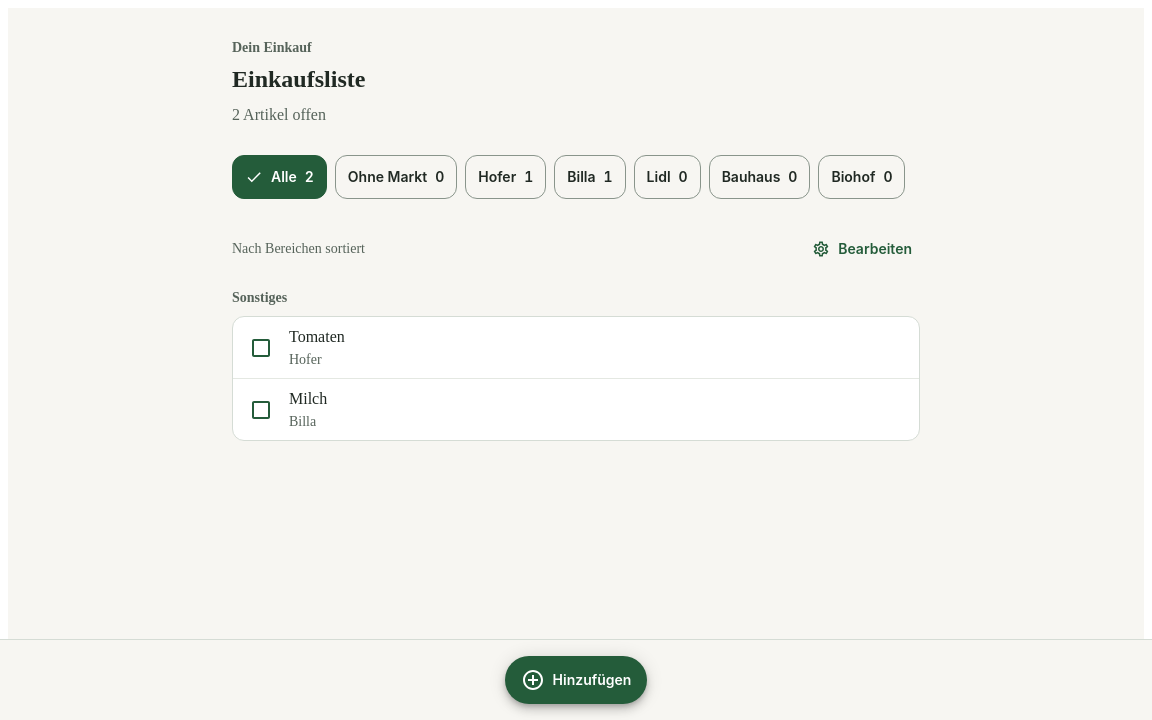
holds optimistic purchase rows and counts until acknowledgment without freezing other records
Click the button with id "market-filter-hofer" at (506,177), box [465,155,546,199]
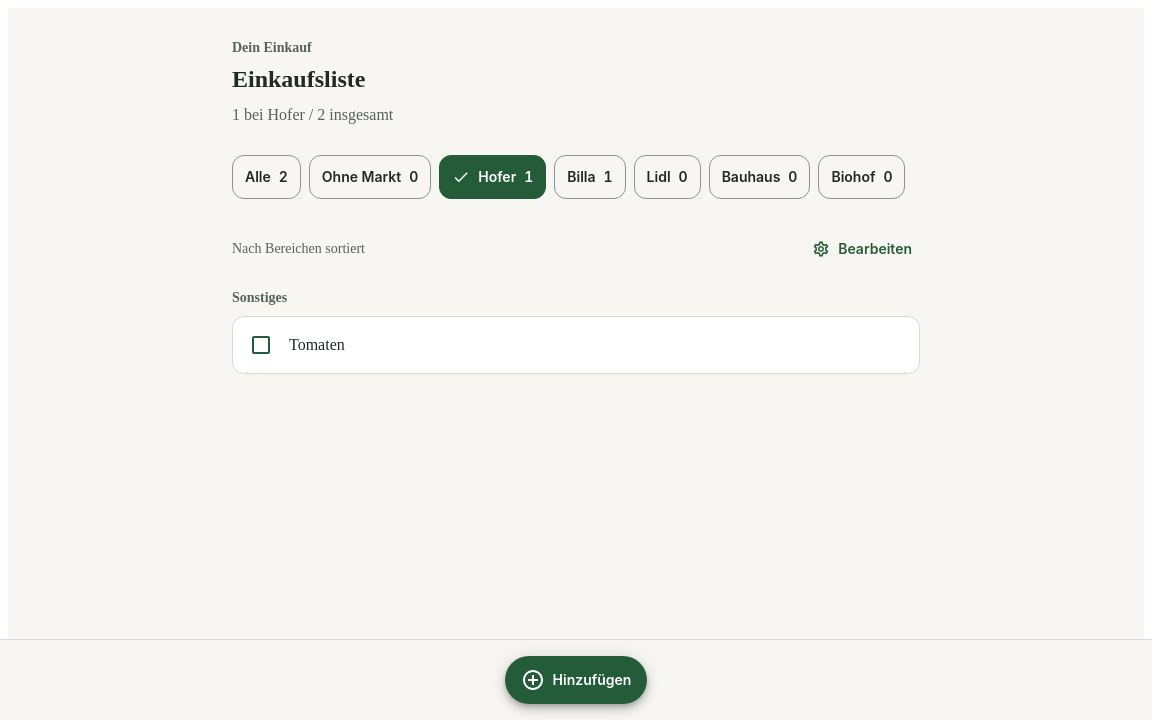
Click the button named "Tomaten als gekauft markieren" at (261,345), box [237,321,285,369]
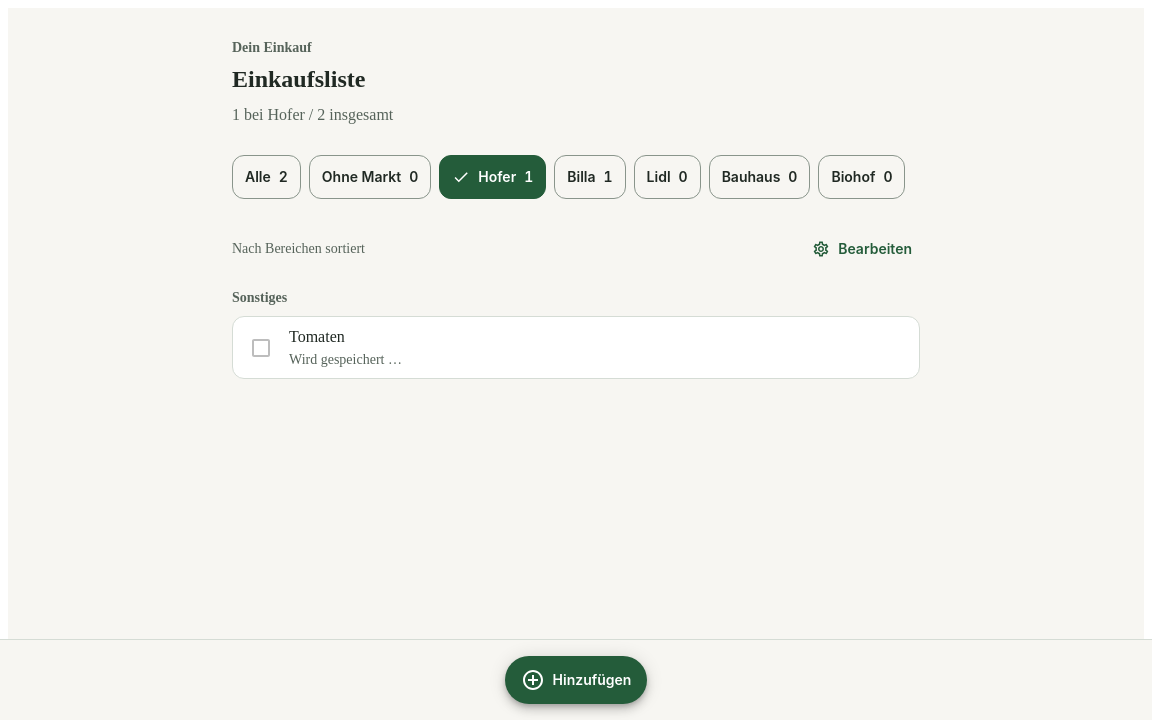
Expected: the text with class "GroceryName" reads "Tomaten", [289,328,345,345]
Click the button "Billa 1" at (590,177), box [554,155,626,199]
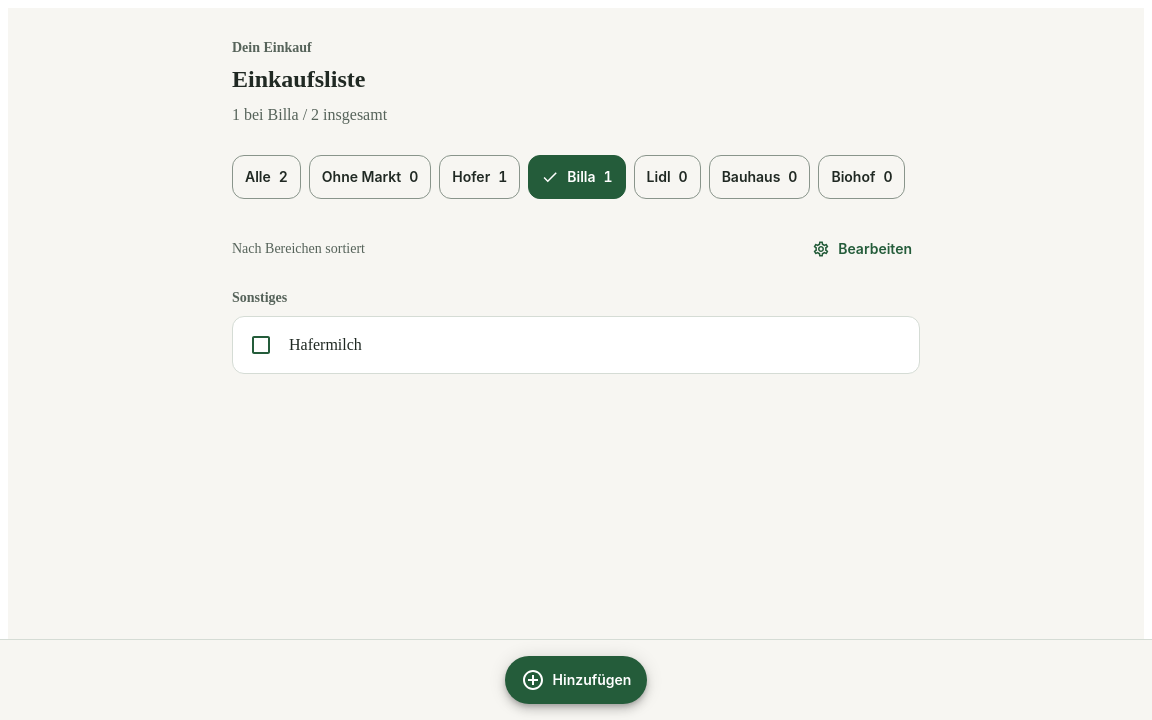
Result: the text with class "GroceryName" reads "Hafermilch" at [289,336,362,353]
Click the button "Hofer 1" at (480,177), box [439,155,520,199]
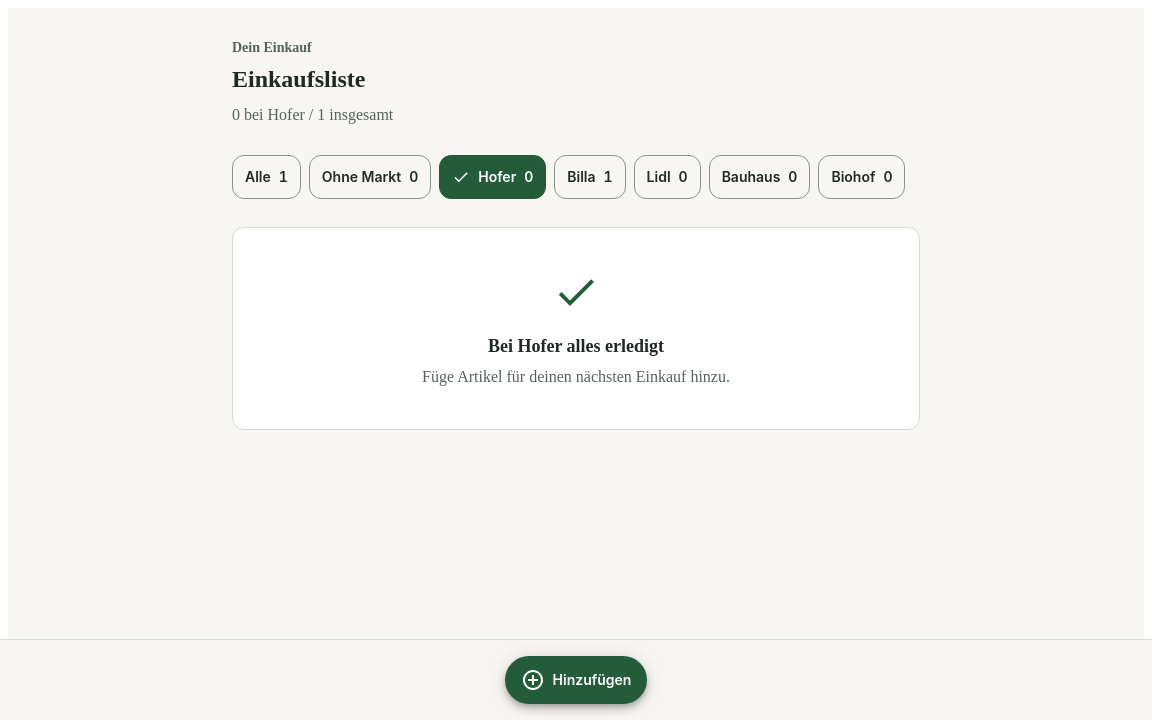
Result: the text with class "GroceryName" is gone
